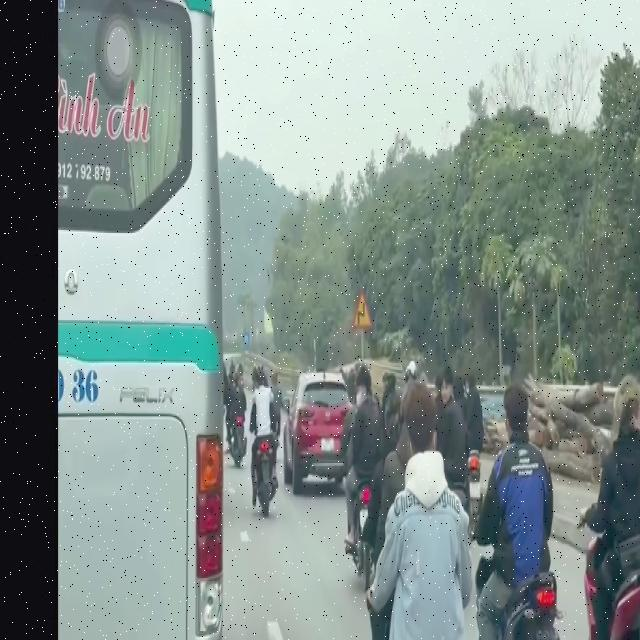no_helmet: (502, 378, 530, 456), (615, 375, 640, 448)
